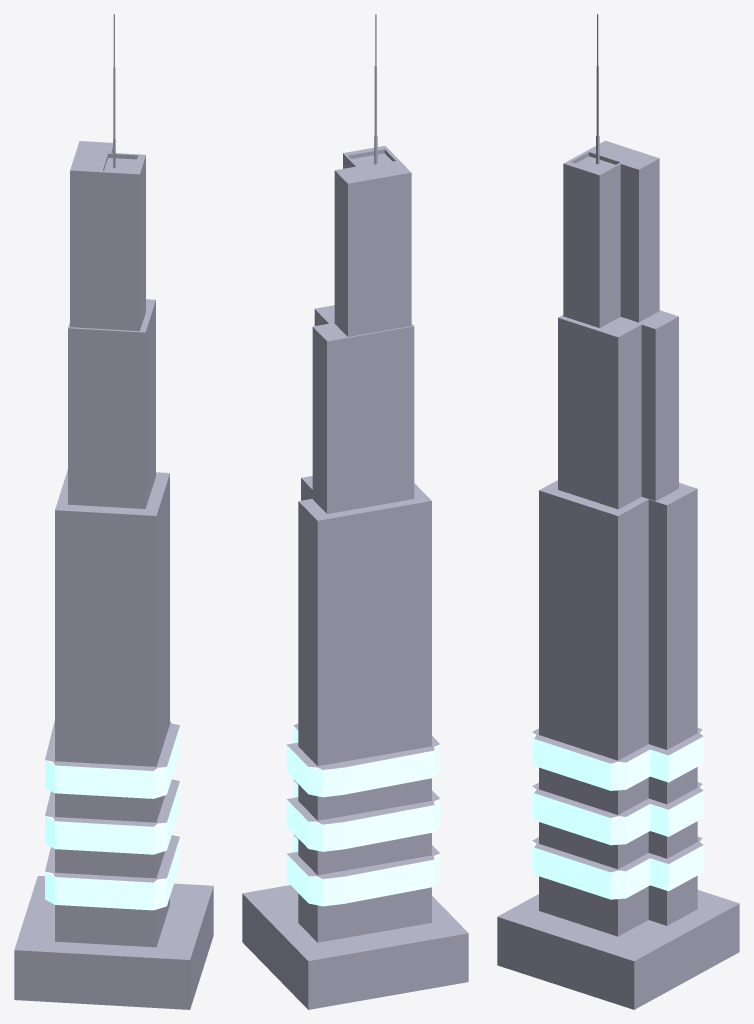
Rendered from mrakodrap6.fbx.
3 renders of one model, left to right at view 1: azimuth 30°, elevation 25°; view 2: azimuth 150°, elevation 25°; view 3: azimuth 270°, elevation 25°, orthographic. The views are drawn at different scales.
Visible parts, largest first — view 1: Cube.001; view 2: Cube.001; view 3: Cube.001.
Boxes of the visible parts, <box> form: Cube.001: <box>14,14,213,1009</box>; Cube.001: <box>242,14,468,1009</box>; Cube.001: <box>497,14,739,1009</box>.
Bounding box in the file's own units: 237 × 1013 × 237.
